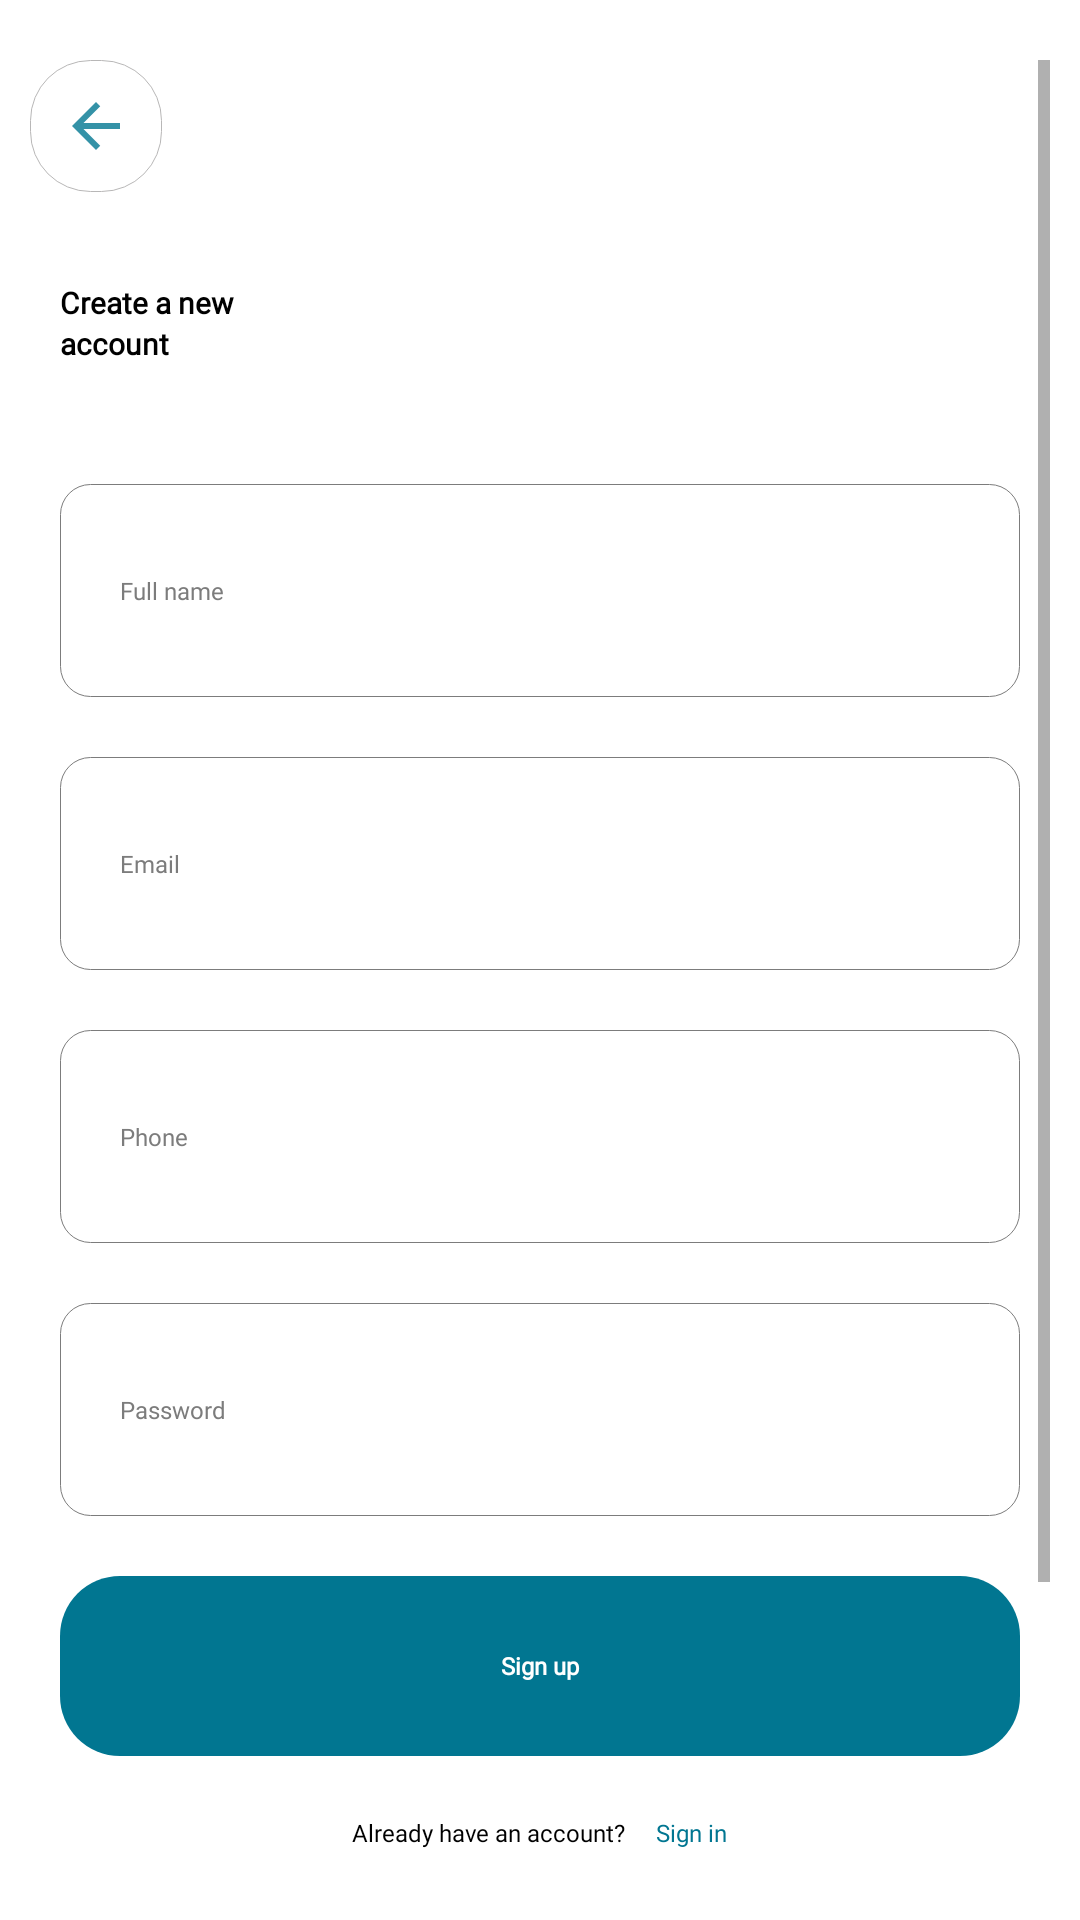

Named icons in this screenshot (1080 x 1920) and their bounding boxes, {"left": x1, "top": y1, "right": x2, "bottom": y2}:
arrow back: {"left": 72, "top": 102, "right": 120, "bottom": 150}
